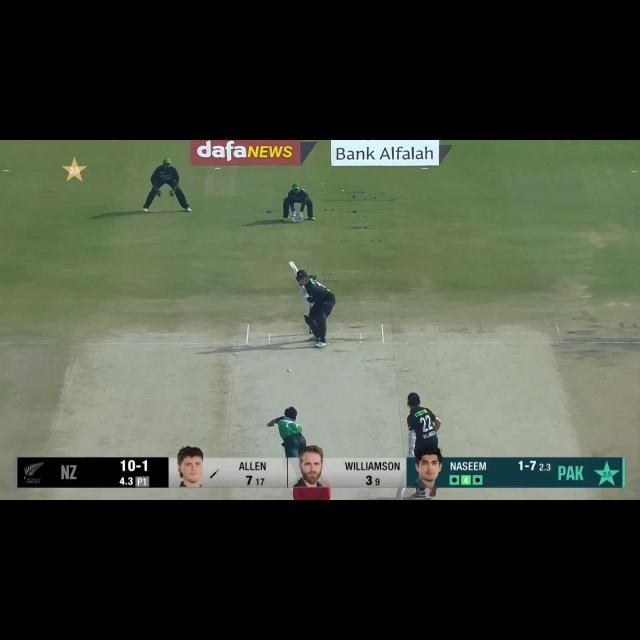bat: (288, 259, 300, 275), (395, 486, 405, 500)
toe: (395, 494, 404, 500), (288, 259, 295, 266)
